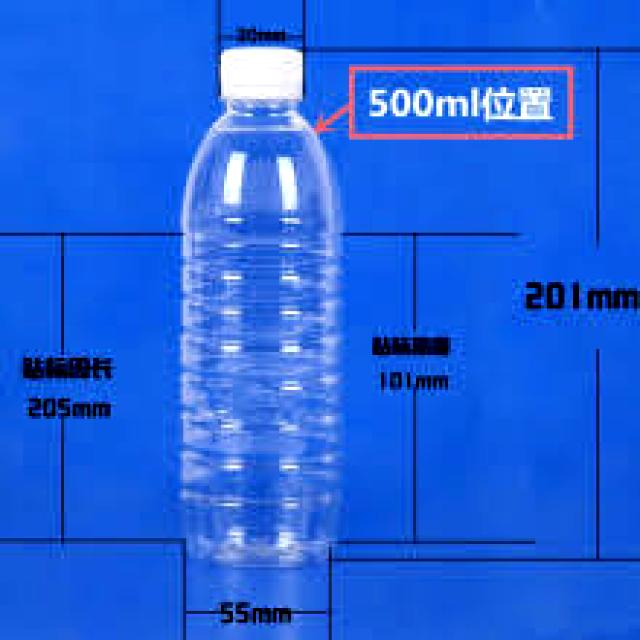Plastic: (178, 43, 347, 571)
